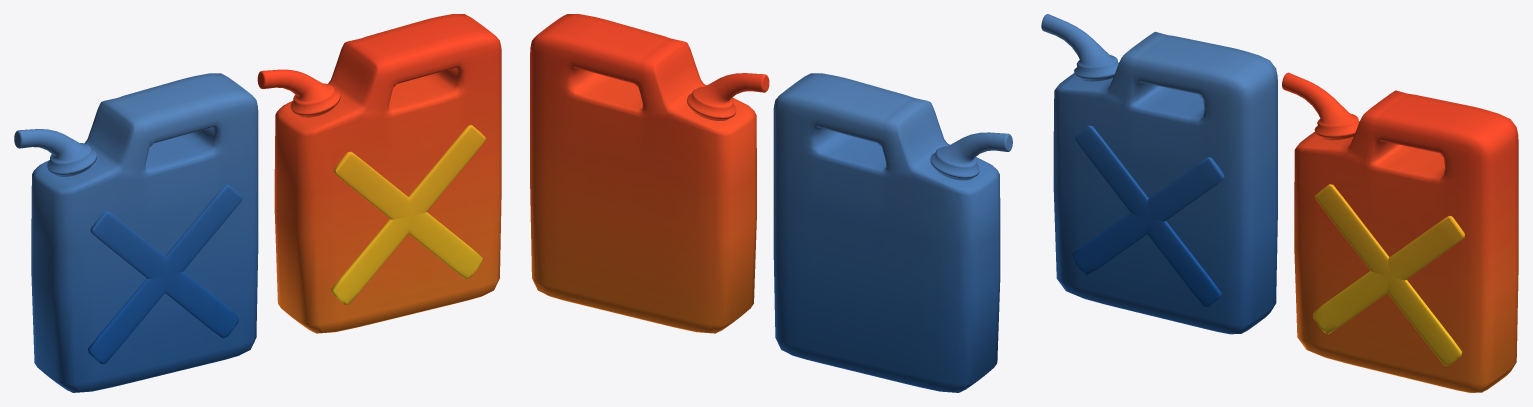
File: All_Gass.fbx
3 views of the same model, side by side, from view 1: azimuth 30°, elevation 25°; view 2: azimuth 150°, elevation 25°; view 3: azimuth 330°, elevation 25° (orthographic).
Parts seen in each view (by area): view 1: MDL_Gas_Case.002, MDL_Gas_Case.001; view 2: MDL_Gas_Case.002, MDL_Gas_Case.001; view 3: MDL_Gas_Case.001, MDL_Gas_Case.002.
Boxes of the visible parts, x1,y1,x2,y2 form: MDL_Gas_Case.002: (14, 73, 258, 392); MDL_Gas_Case.001: (257, 14, 501, 333); MDL_Gas_Case.002: (773, 73, 1012, 392); MDL_Gas_Case.001: (530, 14, 769, 333); MDL_Gas_Case.001: (1282, 72, 1518, 392); MDL_Gas_Case.002: (1041, 14, 1277, 334).
Bounding box in the file's own units: 265 × 143 × 37.91.
